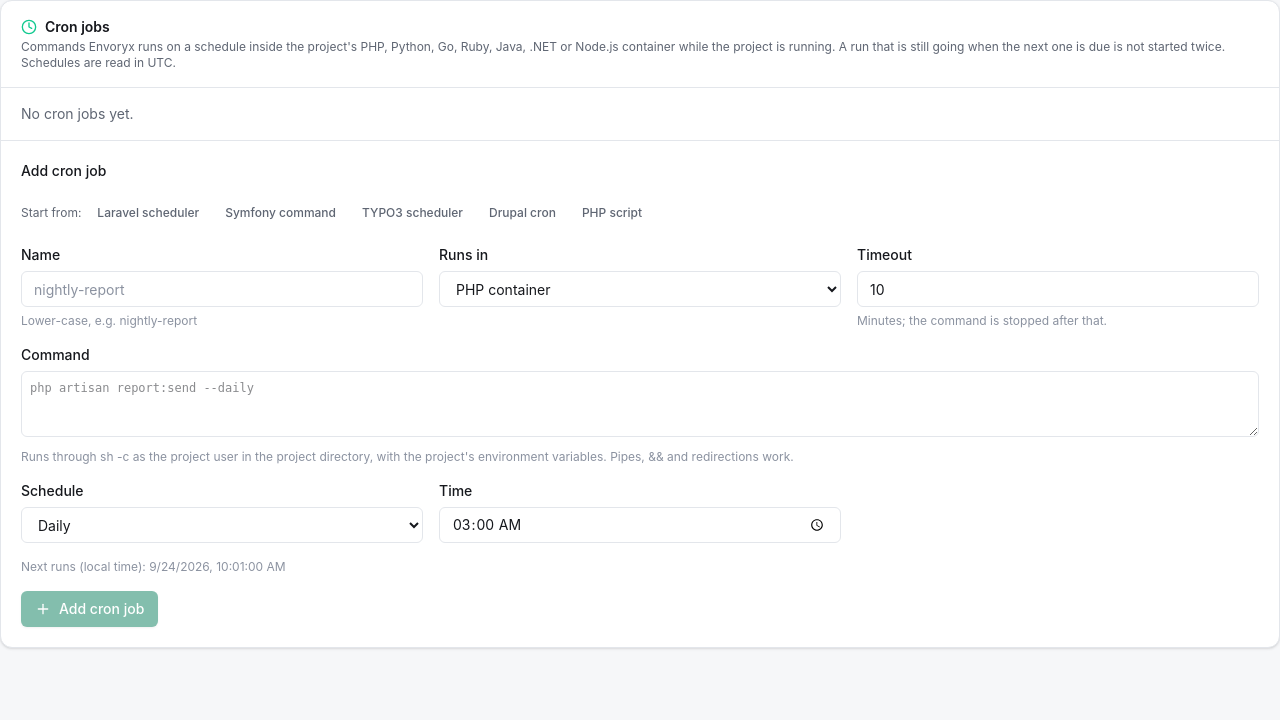
Test case: CronTab › adds a job from a template with the schedule the form builds
Click the button "Laravel scheduler" at (148, 213), box [87,197,209,229]
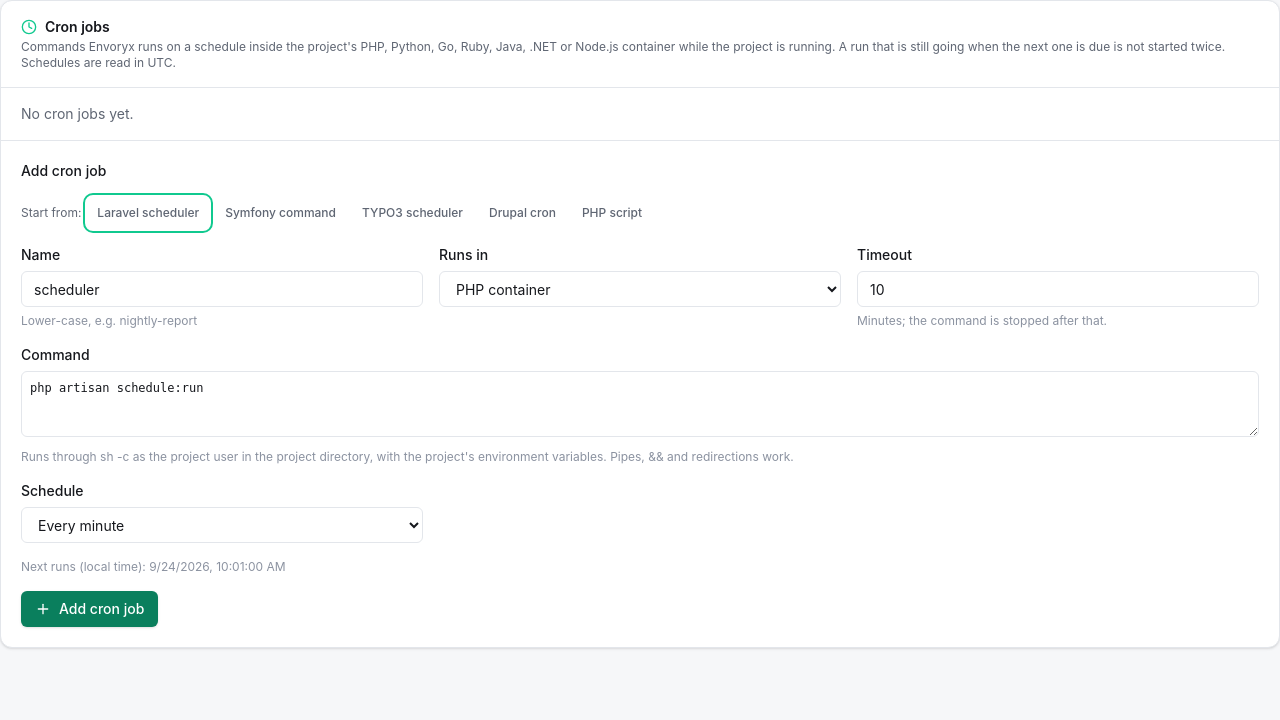
Check: the dropdown labelled "Schedule" shows "Every minute"
Select "Every few minutes" in the dropdown labelled "Schedule" at (222, 525), box [21,507,423,543]
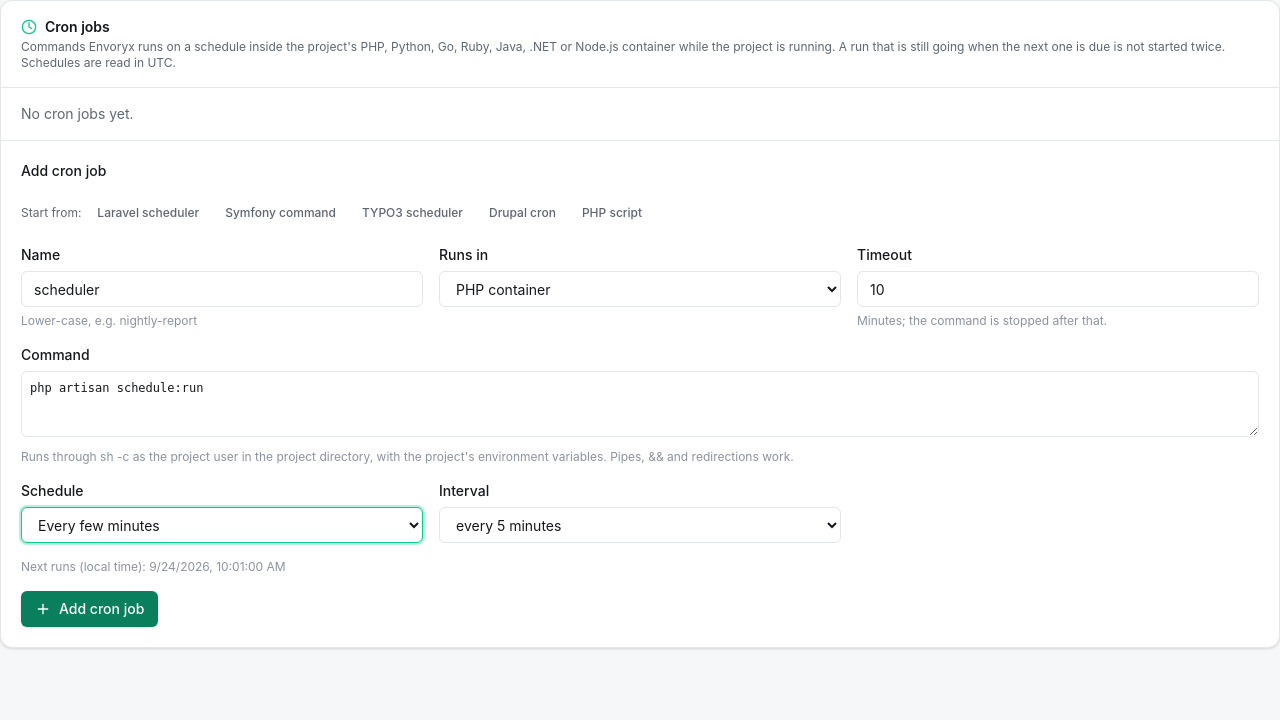
Select "every 15 minutes" in the dropdown labelled "Interval" at (640, 525), box [439,507,841,543]
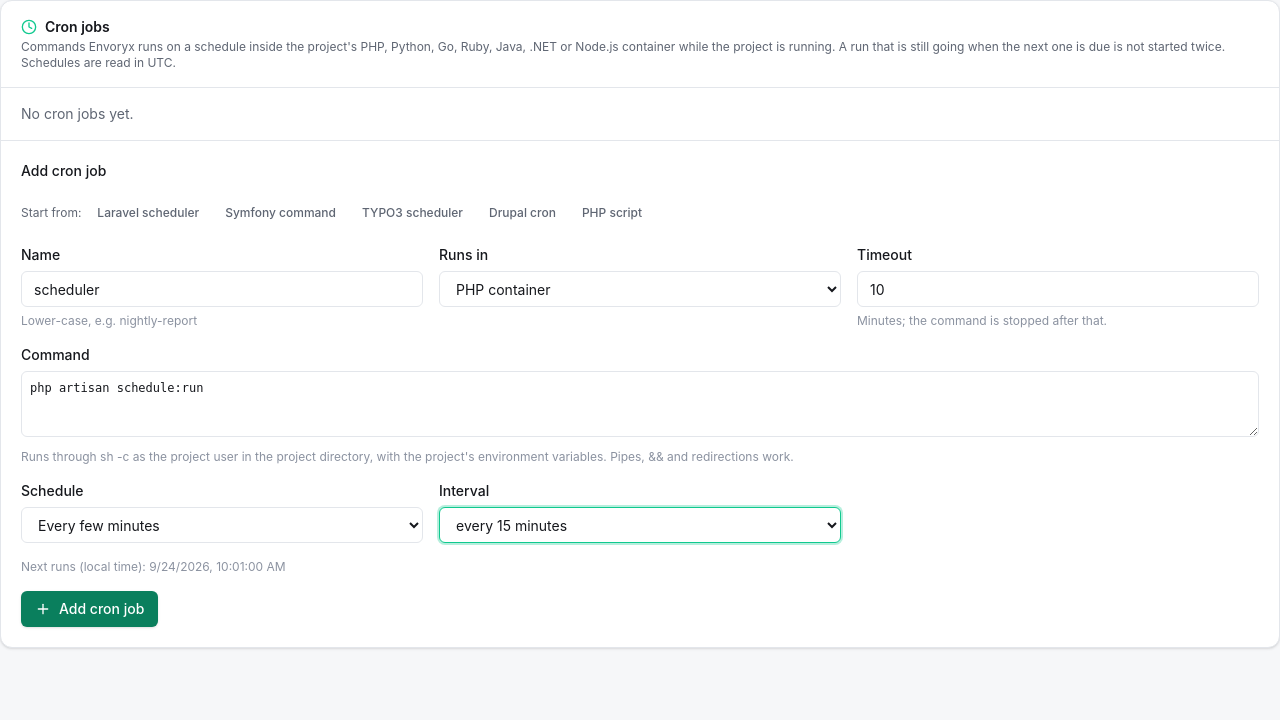
Click the button "Add cron job" at (90, 609), box [21,591,158,627]
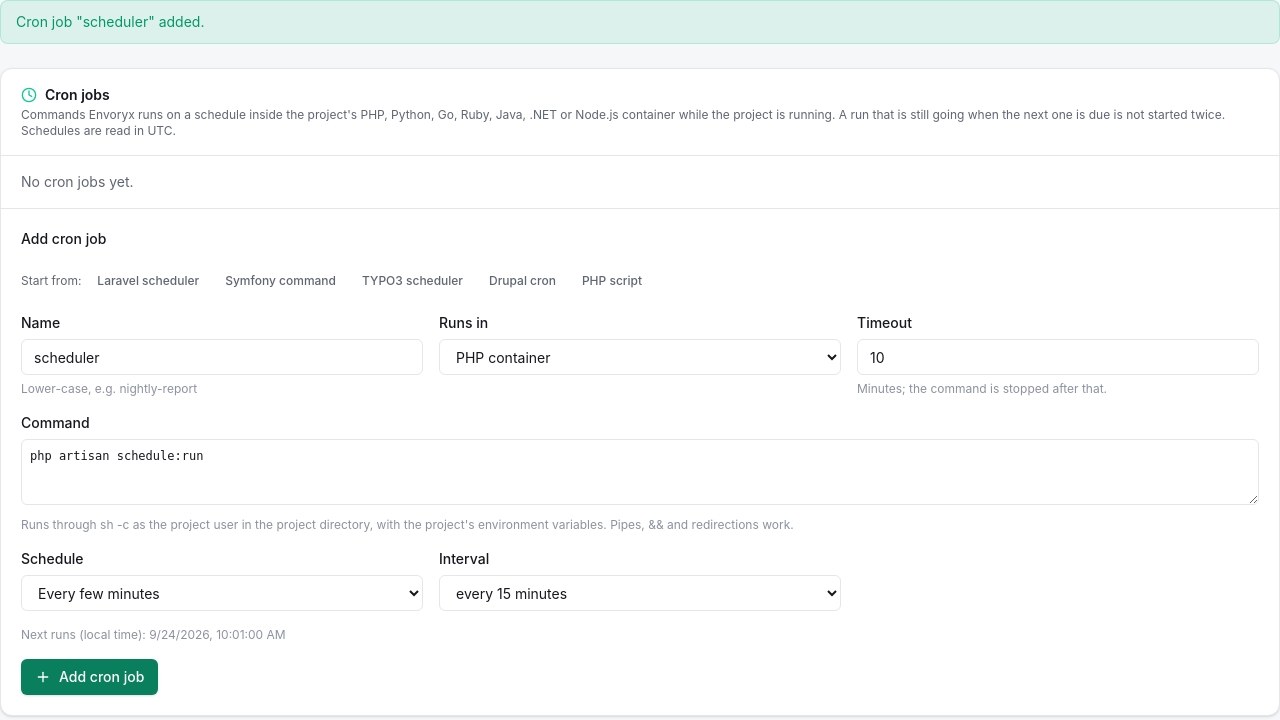
Check: the text "Cron job \"scheduler\" added." is shown, box [16,13,204,30]
